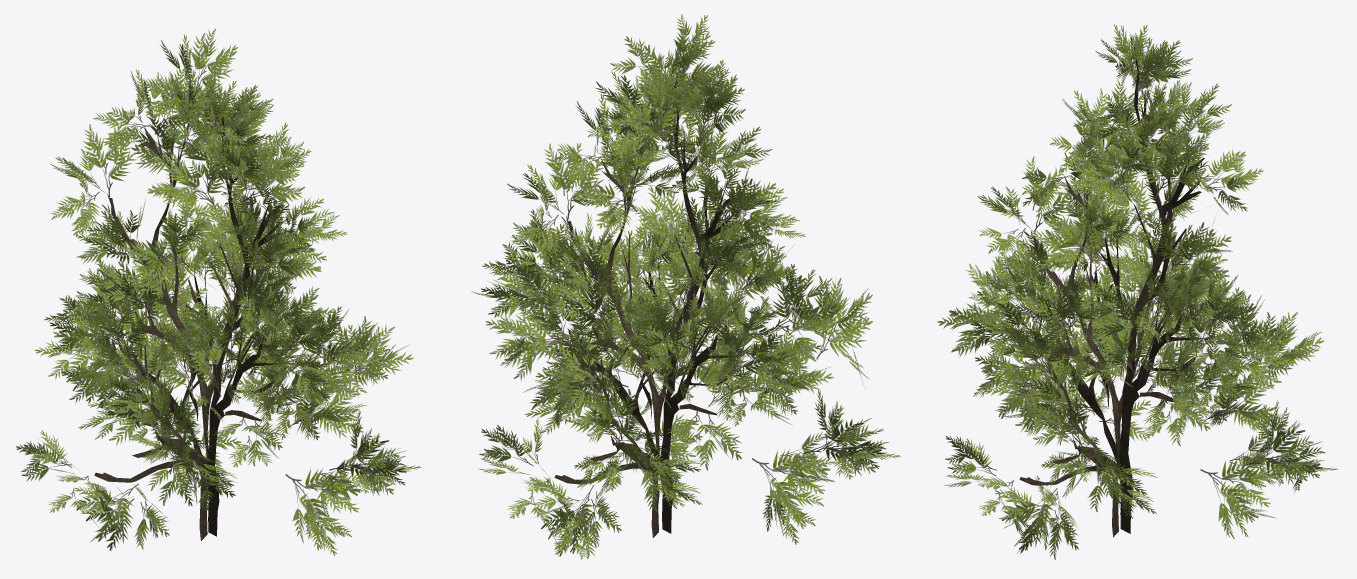
Rendered from tree-1.glb.
The picture shows the model from 3 angles, left to right: view 1: azimuth 30°, elevation 25°; view 2: azimuth 150°, elevation 25°; view 3: azimuth 270°, elevation 25°; orthographic projection. The views are drawn at different scales.
Visible parts, largest first — view 1: leaves, bark; view 2: leaves, bark; view 3: leaves, bark.
Part boxes in pixels (x1,y1,x2,y2): leaves: (16, 28, 421, 555); bark: (94, 72, 285, 540); leaves: (471, 14, 900, 559); bark: (554, 106, 737, 537); leaves: (937, 24, 1338, 559); bark: (1017, 59, 1207, 537).
Bounding box in the file's own units: 0.7926 × 1 × 0.7297.
2 materials, 2 textured.
